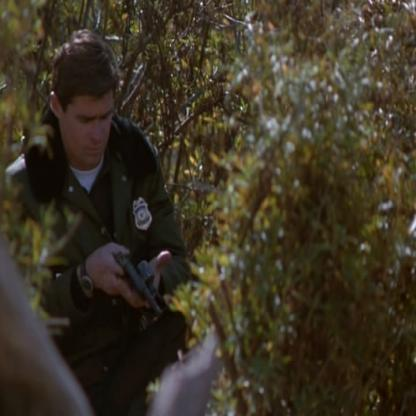gun: (109, 216, 170, 342)
